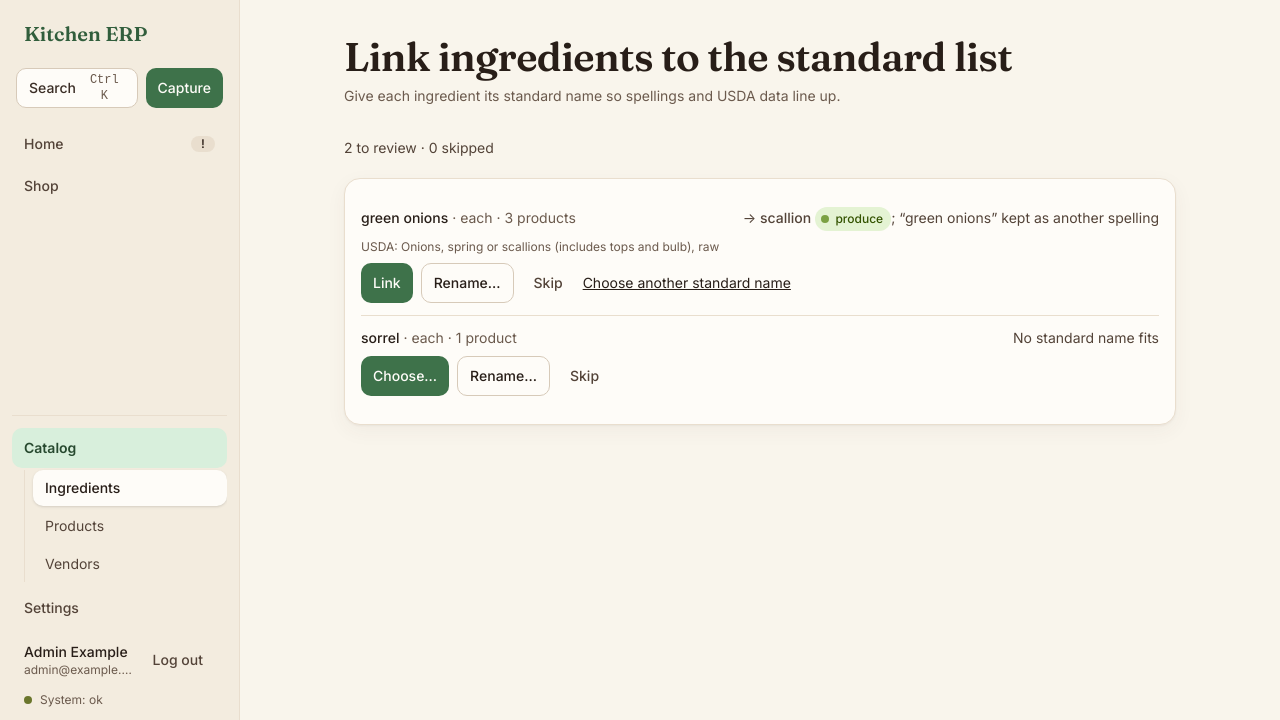
Test: link page (1G) › links a row, which leaves, and moves focus to the next row with an announcement
Check: the heading "Link ingredients to the standard list" is shown, box x1=344 y1=32 x2=1012 y2=82
Check: the text with test id "link-counts" reads "2 to review · 0 skipped", box x1=340 y1=130 x2=1180 y2=166
Click the button "Link" at [387, 283], box x1=361 y1=263 x2=413 y2=303
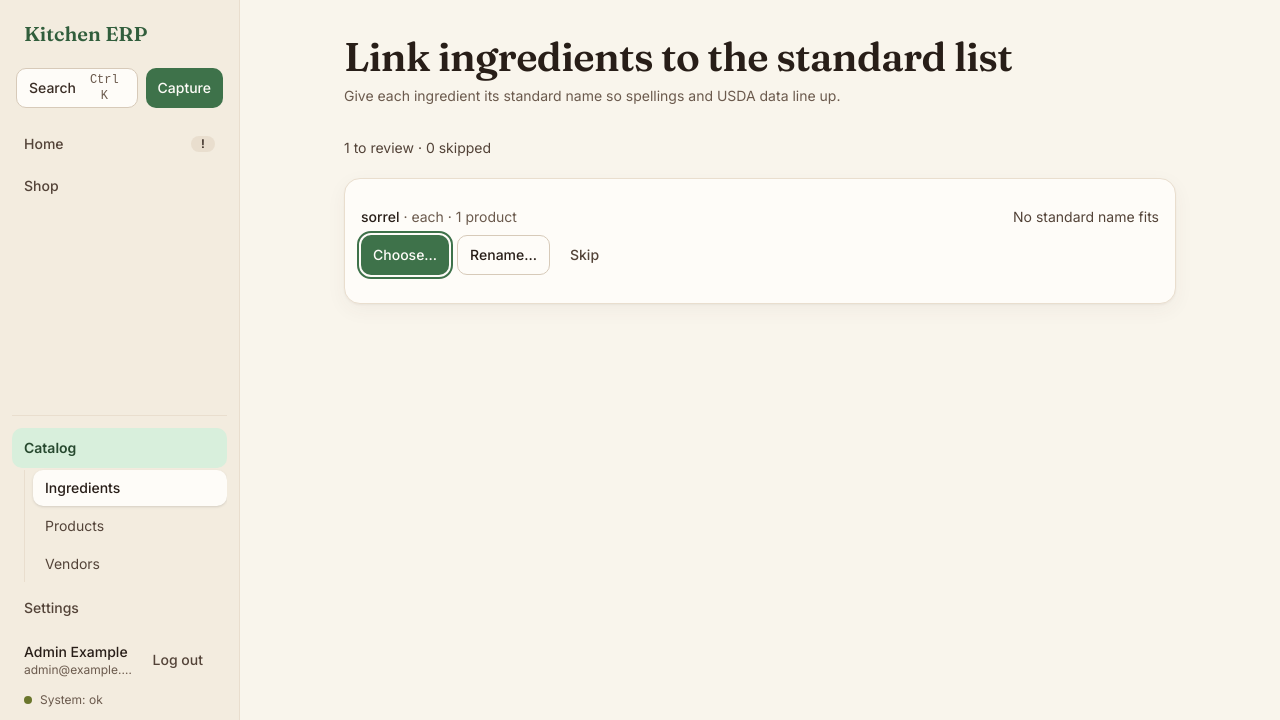
Check: the number of list items with test id "link-row" is 1, box x1=361 y1=195 x2=1159 y2=287
